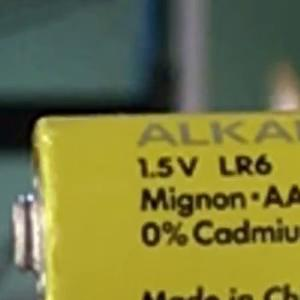ALK: (130, 115, 248, 154)
LR6: (209, 144, 282, 187)
